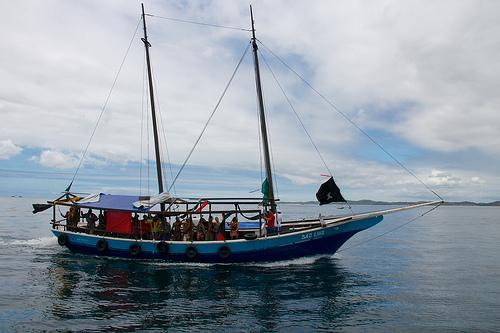Ship: (34, 4, 447, 261)
